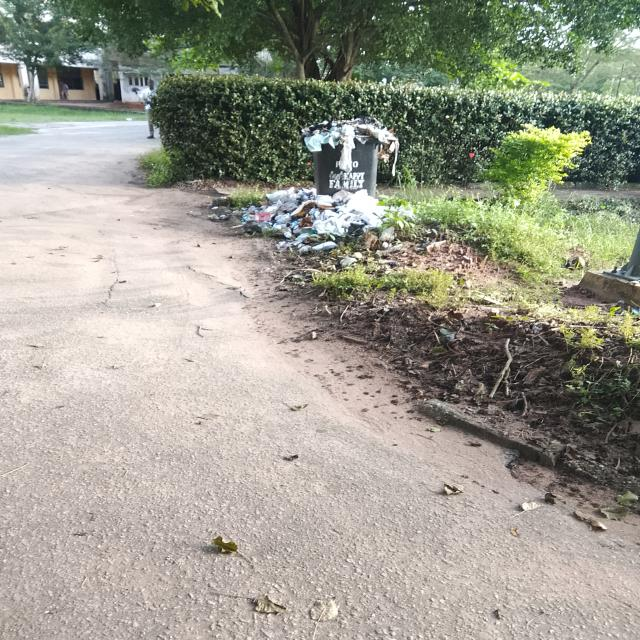overflowing: (301, 118, 402, 147)
